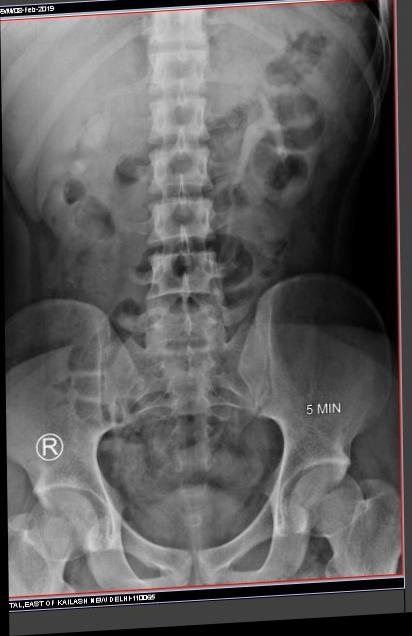left kidney: (241, 72, 342, 231)
right kidney: (34, 80, 144, 268)
vertebrae: (154, 96, 218, 154)
